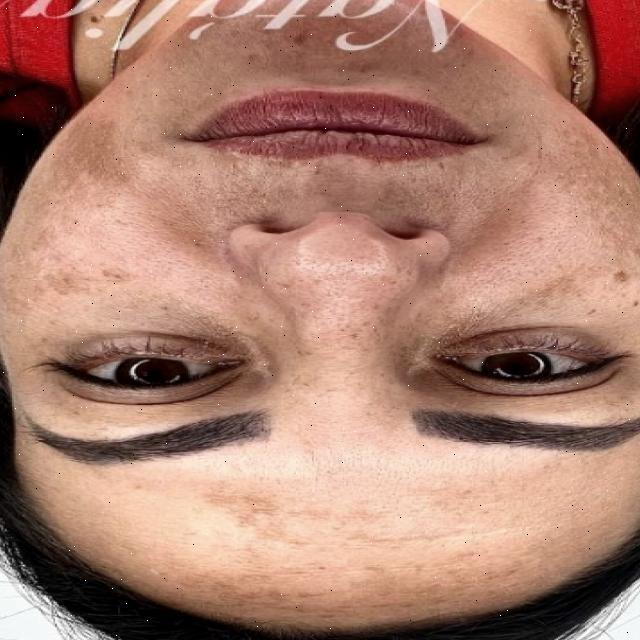Melasma: (116, 474, 594, 616), (476, 120, 640, 330), (0, 106, 138, 307)
